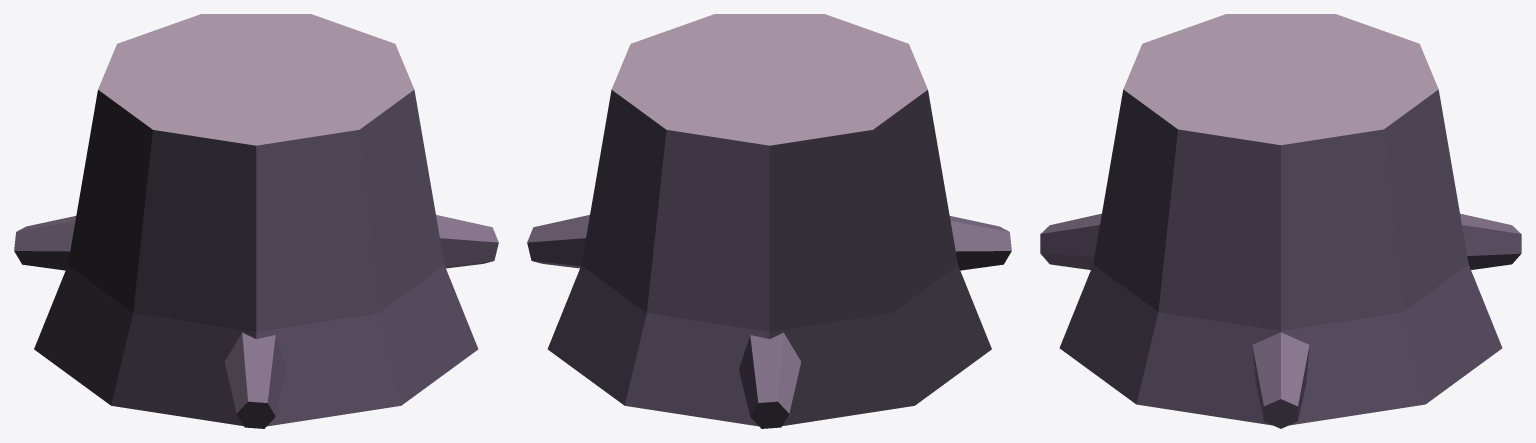
The model's file is TW_PROP_STUMP_ROUND_A_LOD0.glb.
3 renders of one model, left to right at view 1: azimuth 30°, elevation 25°; view 2: azimuth 150°, elevation 25°; view 3: azimuth 270°, elevation 25°, orthographic.
Parts seen in each view (by area): view 1: TW_PROP_STUMP_ROUND_A_LOD0; view 2: TW_PROP_STUMP_ROUND_A_LOD0; view 3: TW_PROP_STUMP_ROUND_A_LOD0.
Part boxes in pixels (left/top/right/bottom): TW_PROP_STUMP_ROUND_A_LOD0: left=14, top=14, right=498, bottom=428; TW_PROP_STUMP_ROUND_A_LOD0: left=527, top=14, right=1011, bottom=428; TW_PROP_STUMP_ROUND_A_LOD0: left=1040, top=14, right=1521, bottom=428.
Bounding box in the file's own units: 0.8622 × 0.5 × 0.8578.
1 material, 1 textured.
